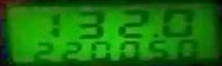-: (152, 33, 159, 37)
0: (161, 6, 194, 36), (116, 39, 140, 59), (88, 40, 112, 60), (174, 38, 197, 58)
1: (49, 13, 61, 37)
2: (115, 7, 147, 37), (31, 40, 54, 62), (59, 40, 81, 61)
3: (75, 8, 103, 38)
5: (146, 39, 168, 60)
